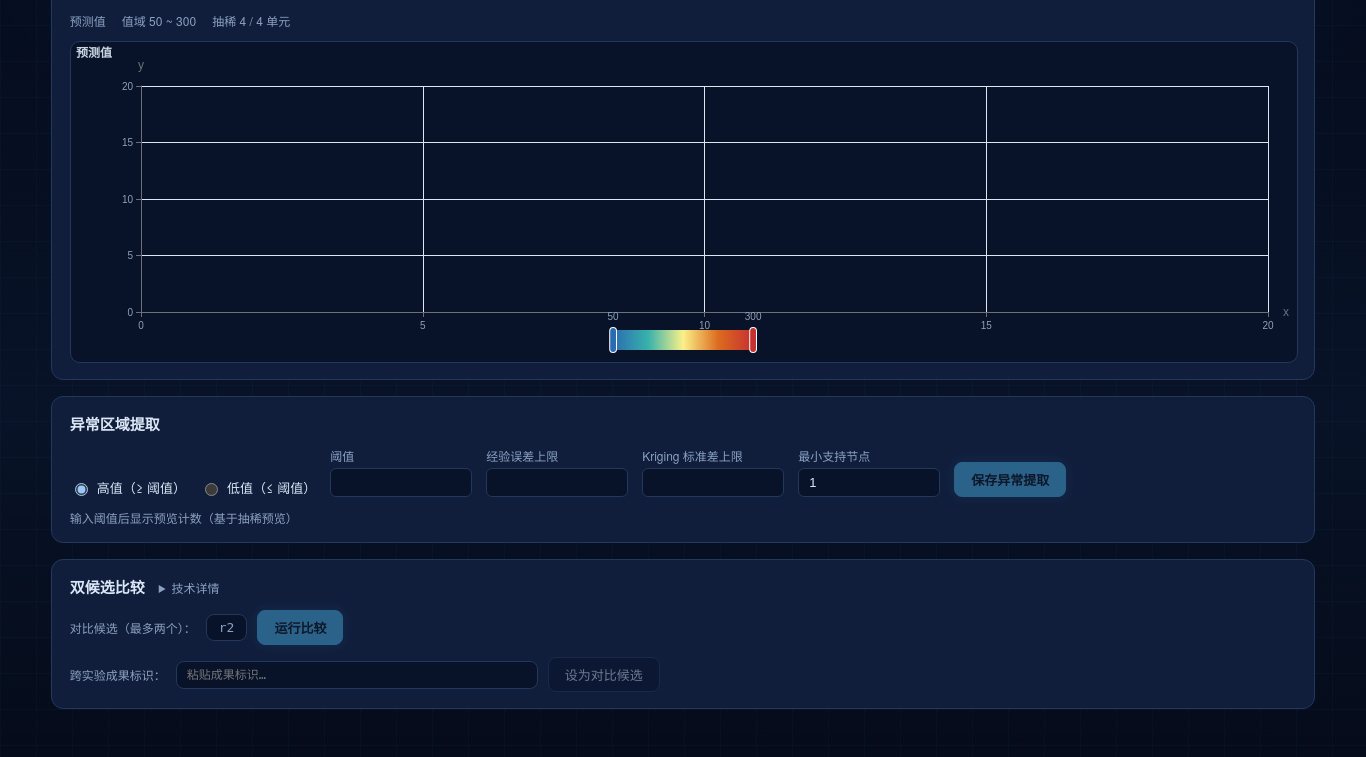
Test: AnomalyPanel 异常提取 › 保存后展示提取身份与连通区表；NoData 节点不进入高亮集合
(page scrolled)
Type "100" into the number field with test id "anomaly-threshold" at (401, 483), box [330,468,472,497]
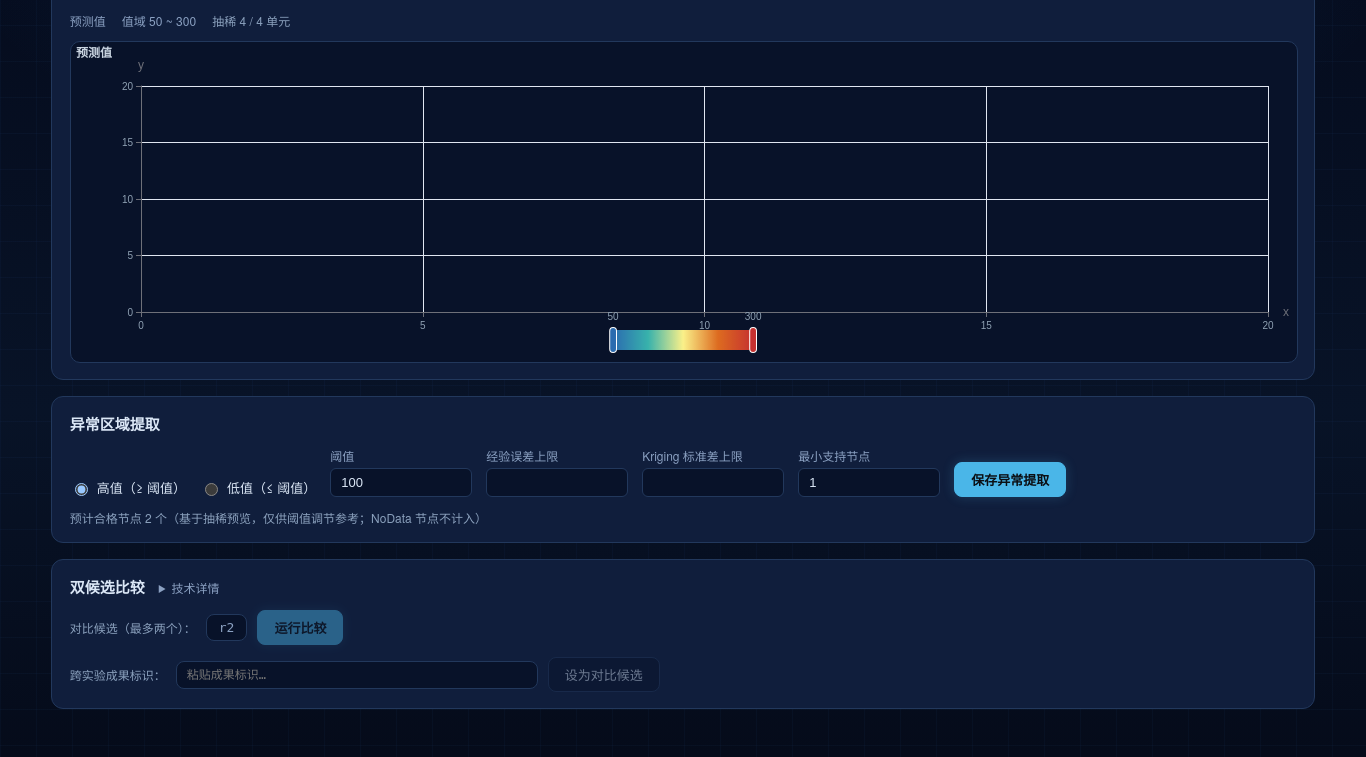
Type "5" into the number field with test id "anomaly-empirical-max" at (557, 483), box [486,468,628,497]
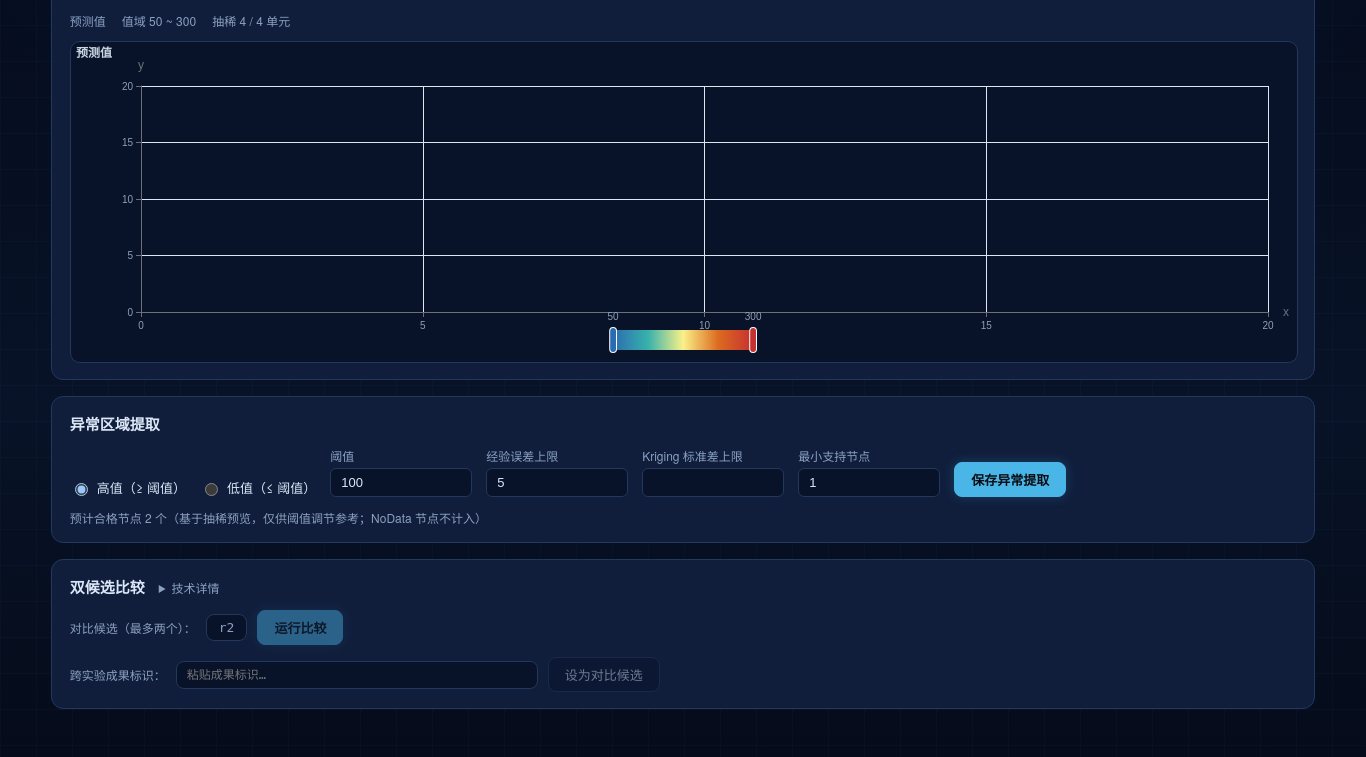
Type "8" into the number field with test id "anomaly-kriging-max" at (713, 483), box [642,468,784,497]
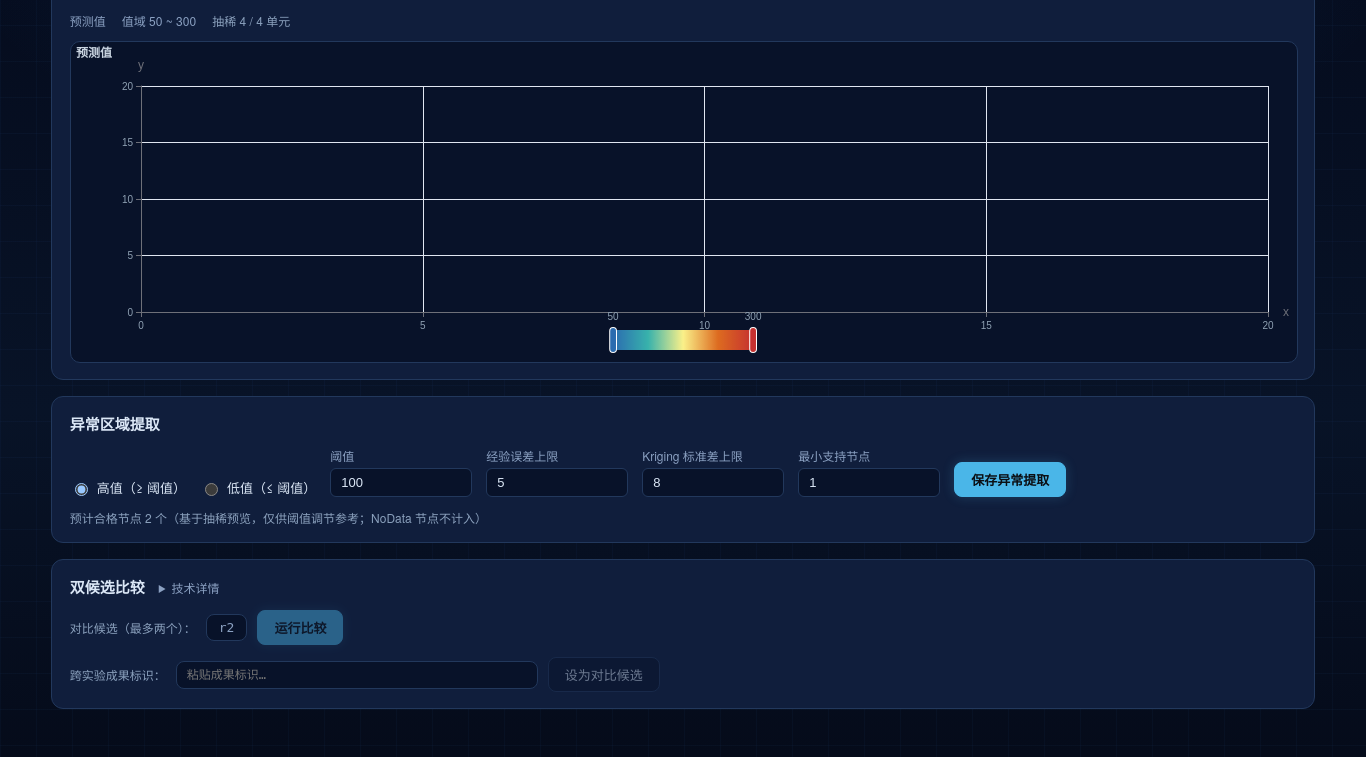
Click the button with test id "anomaly-save" at (1010, 480), box [954,462,1066,497]
Wait 1000 ms
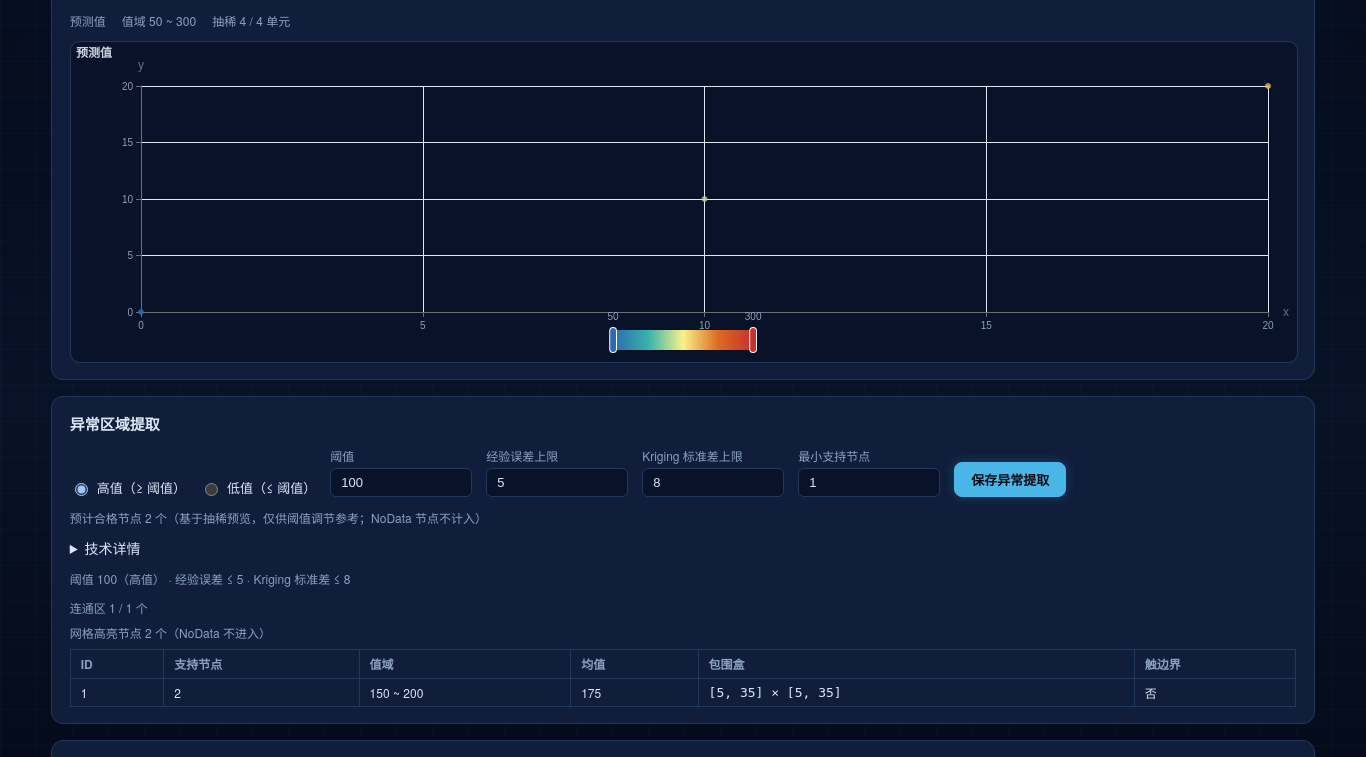
expect the element with test id "extraction-technical-details" is shown: met, box [85,538,141,558]
expect the number of rows with test id "component-row" is 1: met, box [70,679,1296,707]
expect the row with test id "component-row" shows "1": met, box [81,684,87,701]
